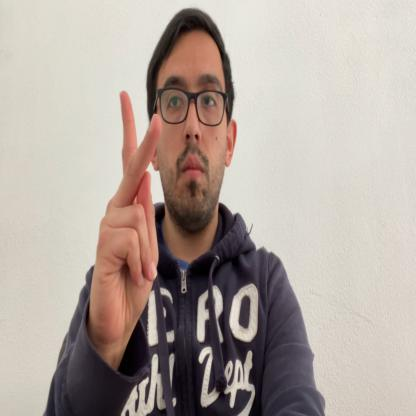P: (90, 89, 162, 352)
